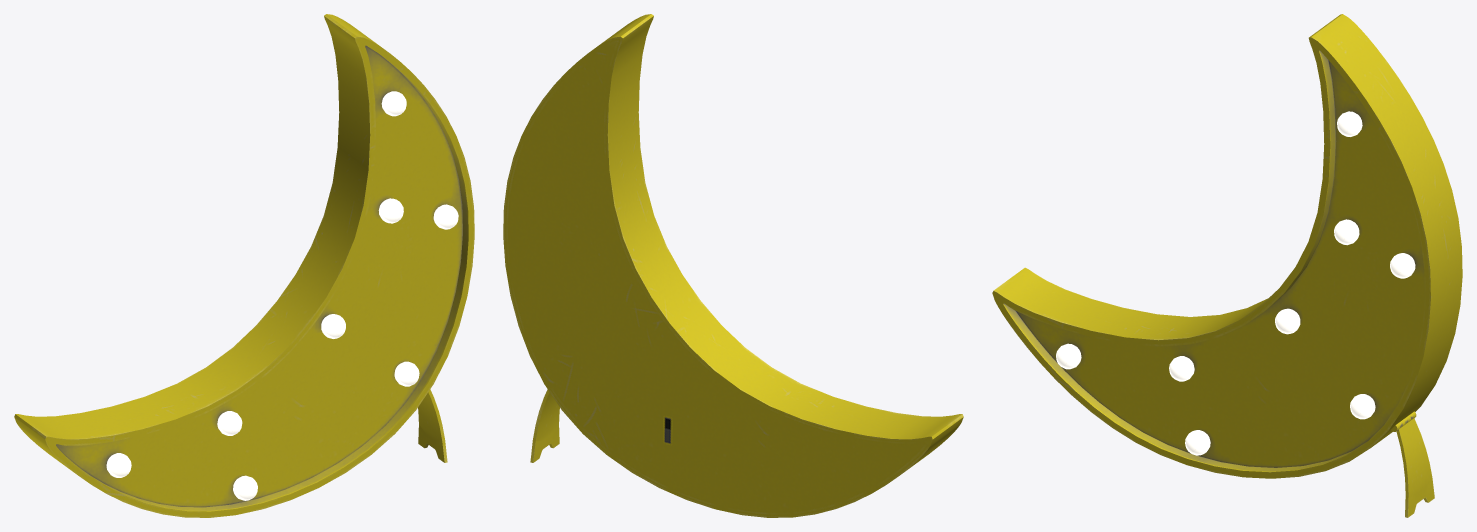
Rendered from moon-shaped_nightlight.fbx.
The picture shows the model from 3 angles, left to right: view 1: azimuth 30°, elevation 25°; view 2: azimuth 150°, elevation 25°; view 3: azimuth 330°, elevation 25°; orthographic projection. The views are drawn at different scales.
Parts seen in each view (by area): view 1: Moon_nightlight_LP_M_Moon_Nighlight_0, Moon_stand_LP_M_Moon_Nighlight_0; view 2: Moon_nightlight_LP_M_Moon_Nighlight_0, Moon_stand_LP_M_Moon_Nighlight_0; view 3: Moon_nightlight_LP_M_Moon_Nighlight_0, Moon_stand_LP_M_Moon_Nighlight_0, Moon_bulb_7_LP_M_Moon_Nighlight_0, Moon_bulb_4_LP_M_Moon_Nighlight_0, Moon_bulb_6_LP_M_Moon_Nighlight_0, Moon_bulb_1_LP_M_Moon_Nighlight_0, Moon_bulb_2_LP_M_Moon_Nighlight_0, Moon_bulb_5_LP_M_Moon_Nighlight_0, Moon_bulb_8_LP_M_Moon_Nighlight_0.
Boxes of the visible parts, x1,y1,x2,y2 form: Moon_nightlight_LP_M_Moon_Nighlight_0: (14,14,474,517); Moon_stand_LP_M_Moon_Nighlight_0: (418,389,447,462); Moon_nightlight_LP_M_Moon_Nighlight_0: (503,14,963,517); Moon_stand_LP_M_Moon_Nighlight_0: (530,389,559,462); Moon_nightlight_LP_M_Moon_Nighlight_0: (992,14,1462,478); Moon_stand_LP_M_Moon_Nighlight_0: (1391,411,1434,517); Moon_bulb_7_LP_M_Moon_Nighlight_0: (1185,430,1210,455); Moon_bulb_4_LP_M_Moon_Nighlight_0: (1275,308,1300,334); Moon_bulb_6_LP_M_Moon_Nighlight_0: (1169,356,1194,381); Moon_bulb_1_LP_M_Moon_Nighlight_0: (1337,111,1362,136); Moon_bulb_2_LP_M_Moon_Nighlight_0: (1334,219,1359,245); Moon_bulb_5_LP_M_Moon_Nighlight_0: (1350,394,1375,419); Moon_bulb_8_LP_M_Moon_Nighlight_0: (1056,343,1081,369).
Bounding box in the file's own units: 0.24 × 0.2402 × 0.0357.
1 material, 1 textured.
